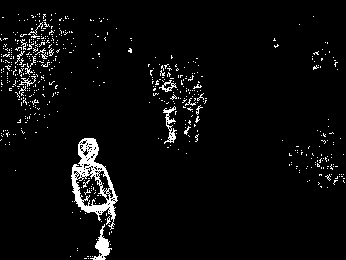person: (69, 132, 123, 256)
